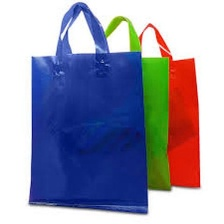plastic_bag: (26, 0, 153, 215), (120, 20, 205, 192), (93, 11, 172, 195)
